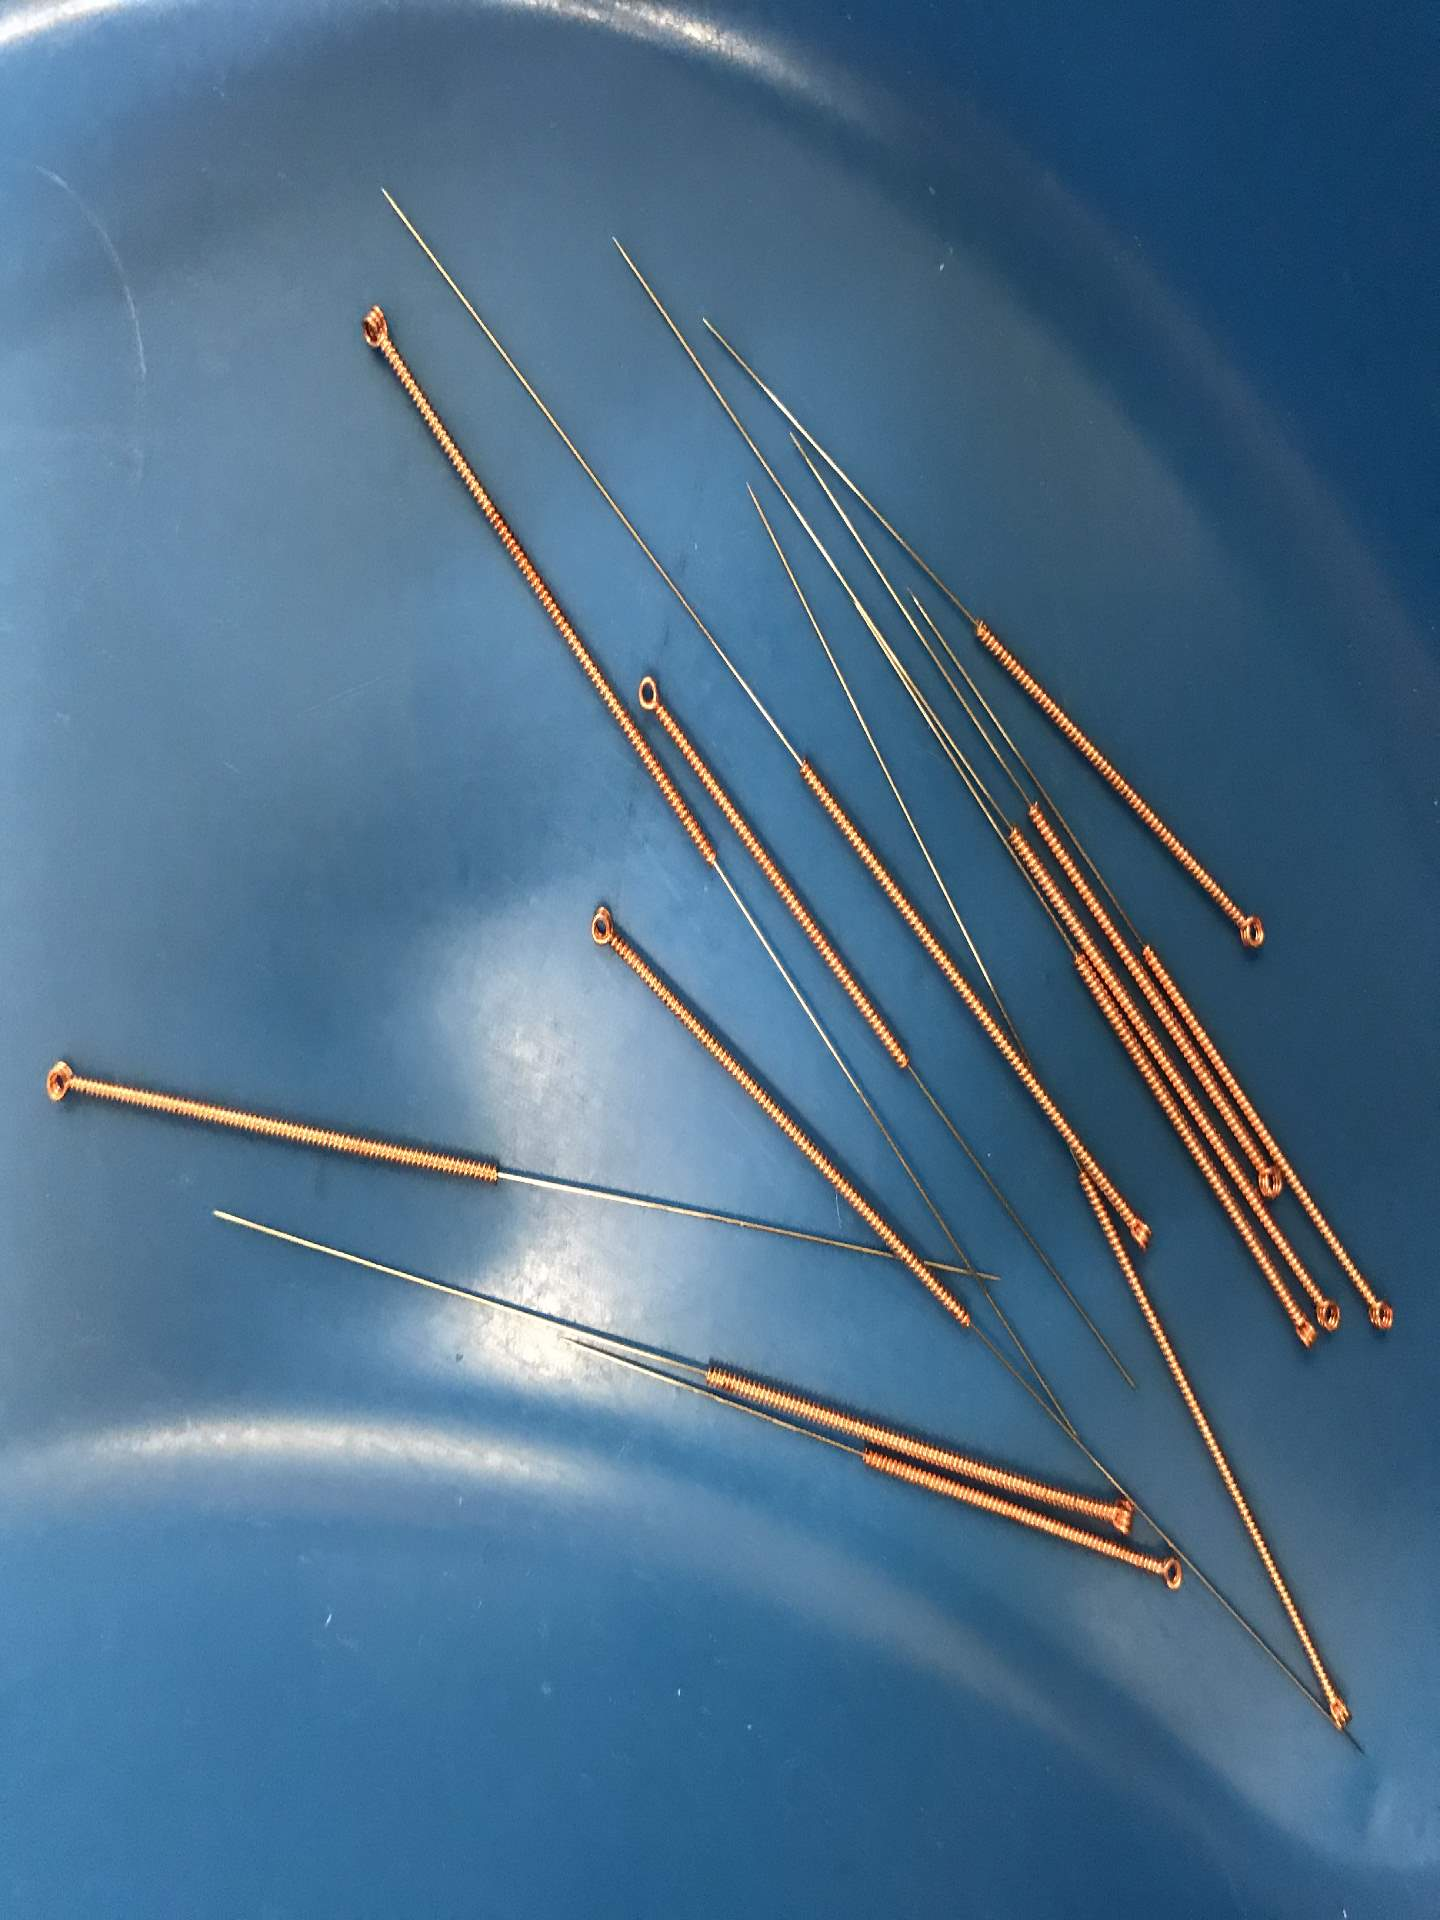needle: (29, 1045, 95, 1119), (343, 290, 401, 370), (573, 892, 631, 962), (1222, 897, 1277, 966), (1311, 1678, 1364, 1745), (1352, 1279, 1404, 1344), (1144, 1544, 1193, 1604), (1097, 1489, 1145, 1541), (631, 665, 669, 730), (1119, 1199, 1162, 1256), (1311, 1281, 1351, 1339), (1281, 1305, 1319, 1356), (1252, 1158, 1287, 1205)
